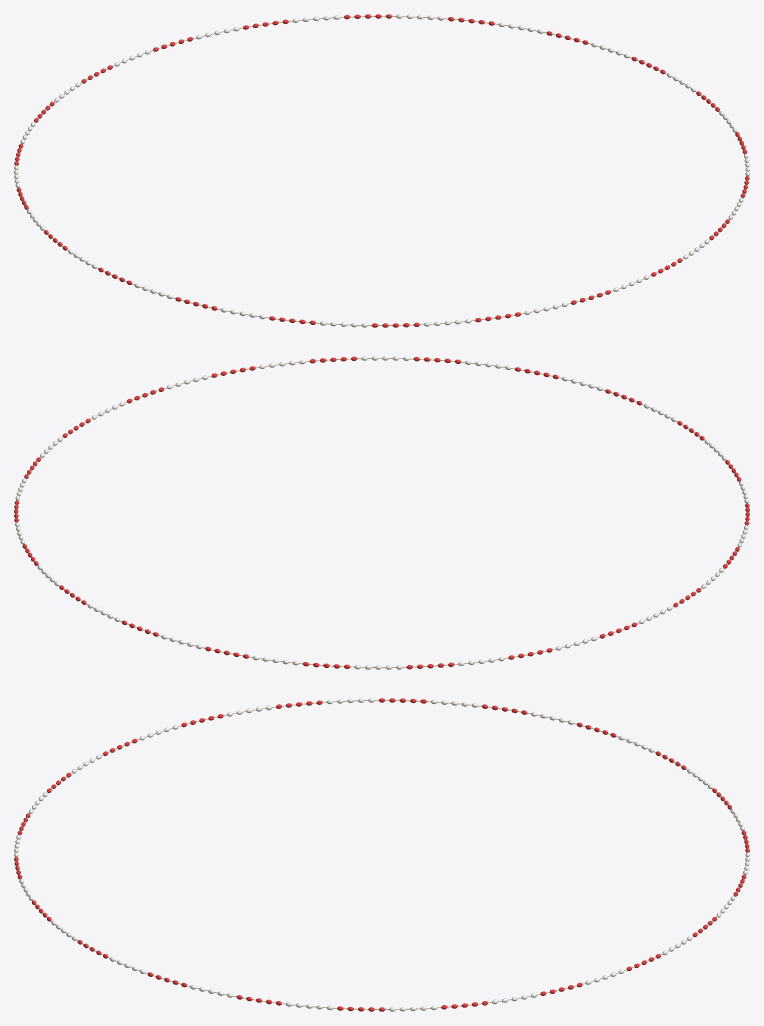
File: BumperFloatLine.obj
3 renders of one model, top to bottom at view 1: azimuth 30°, elevation 25°; view 2: azimuth 150°, elevation 25°; view 3: azimuth 270°, elevation 25°, orthographic.
Visible parts, largest first — view 1: FloatRed, FloatWhite, Rope; view 2: FloatWhite, FloatRed, Rope; view 3: FloatRed, FloatWhite, Rope.
Boxes of the visible parts, left/top/right/bottom form: FloatRed: left=14, top=14, right=749, bottom=327; FloatWhite: left=14, top=14, right=749, bottom=327; Rope: left=16, top=16, right=747, bottom=325; FloatWhite: left=15, top=356, right=748, bottom=669; FloatRed: left=14, top=356, right=749, bottom=669; Rope: left=16, top=358, right=747, bottom=667; FloatRed: left=14, top=698, right=749, bottom=1011; FloatWhite: left=14, top=698, right=749, bottom=1011; Rope: left=16, top=700, right=747, bottom=1009.
Bounding box in the file's own units: 141 × 0.855 × 141.
